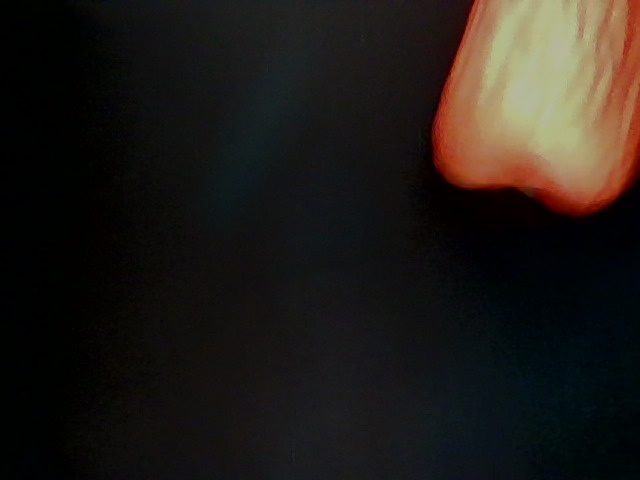QTLJ: (466, 22, 631, 314)
